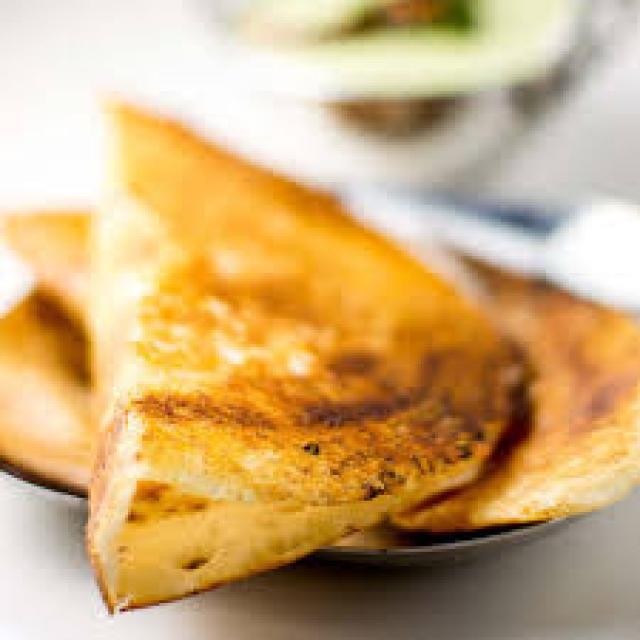DOSA: (83, 98, 637, 624), (0, 201, 95, 498)
